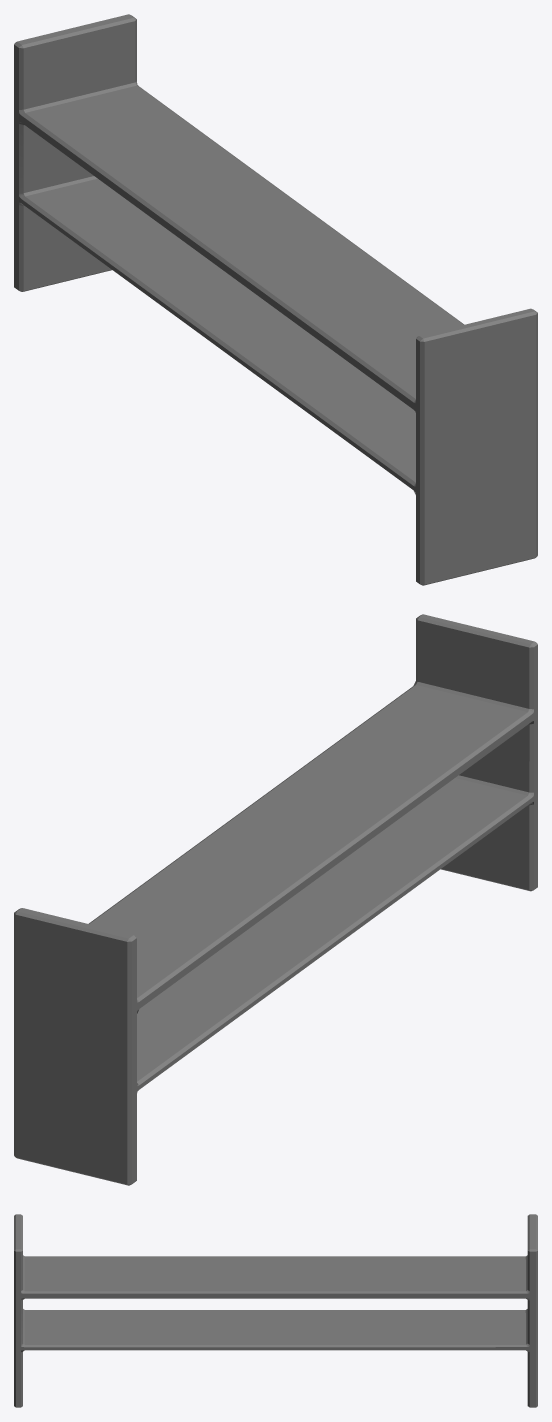
File: Obj_LabShelf.fbx
3 renders of one model, top to bottom at view 1: azimuth 30°, elevation 25°; view 2: azimuth 150°, elevation 25°; view 3: azimuth 270°, elevation 25°, orthographic. The views are drawn at different scales.
Visible parts, largest first — view 1: Obj_LabShelf; view 2: Obj_LabShelf; view 3: Obj_LabShelf.
Boxes of the visible parts, x1,y1,x2,y2 form: Obj_LabShelf: (14,14,537,585); Obj_LabShelf: (14,614,537,1185); Obj_LabShelf: (14,1214,537,1407).
Bounding box in the file's own units: 0.5 × 1 × 3.
